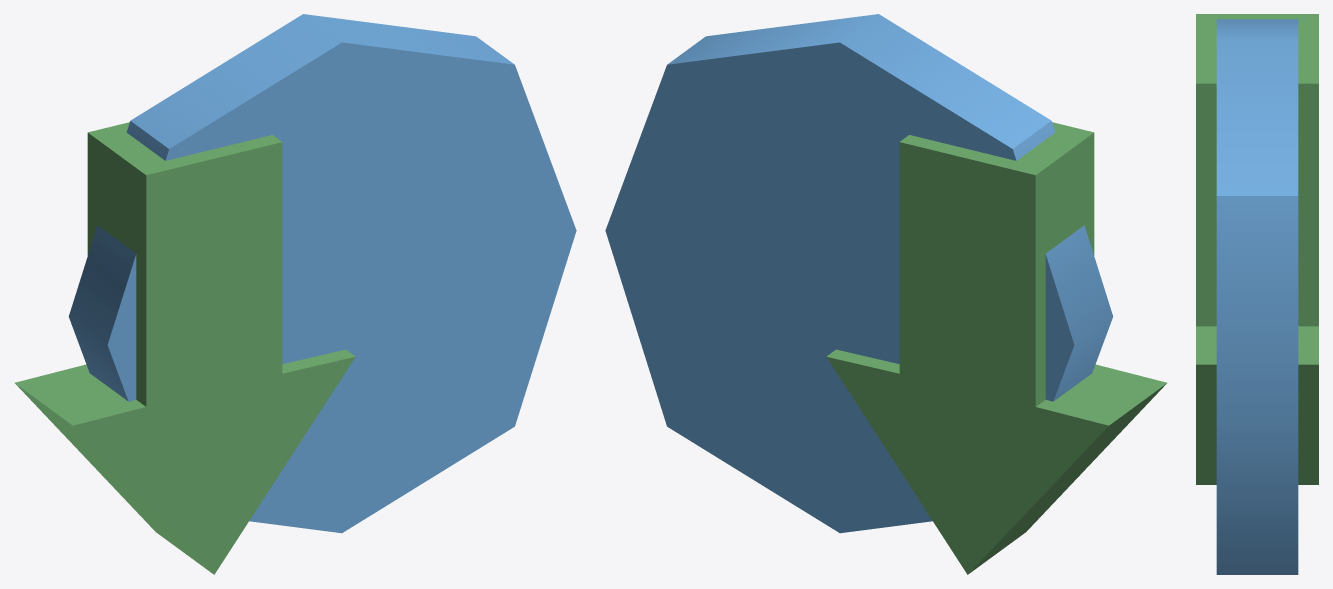
The model's file is UpgradeOrbSmall.fbx.
3 views of the same model, side by side, from view 1: azimuth 30°, elevation 25°; view 2: azimuth 150°, elevation 25°; view 3: azimuth 270°, elevation 25° (orthographic). The views are drawn at different scales.
Visible parts, largest first — view 1: Orb, Arrow; view 2: Orb, Arrow; view 3: Orb, Arrow.
Boxes of the visible parts, x1,y1,x2,y2 form: Orb: (68, 14, 576, 533); Arrow: (14, 122, 355, 574); Orb: (605, 14, 1113, 533); Arrow: (826, 122, 1167, 574); Orb: (1216, 19, 1298, 574); Arrow: (1196, 14, 1318, 484).
Bounding box in the file's own units: 1.49 × 1.36 × 0.2934.
